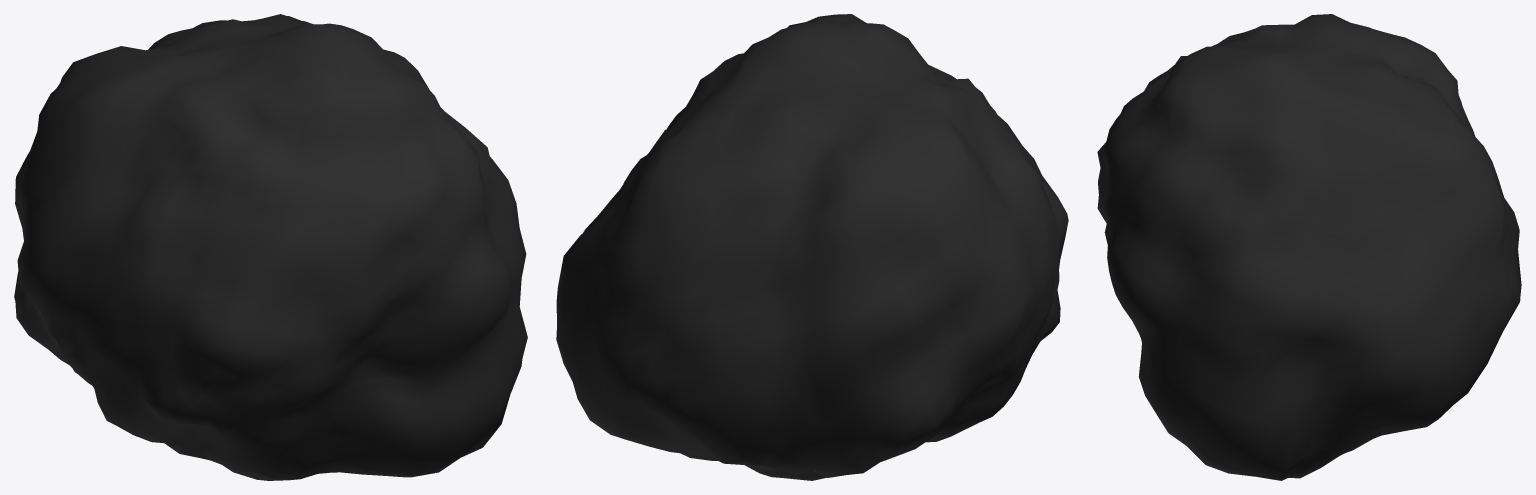
File: SM_Prop_Asteroid2_01.fbx
The picture shows the model from 3 angles, left to right: view 1: azimuth 30°, elevation 25°; view 2: azimuth 150°, elevation 25°; view 3: azimuth 270°, elevation 25°; orthographic projection. The views are drawn at different scales.
Visible parts, largest first — view 1: SM_Prop_Asteroid2_01; view 2: SM_Prop_Asteroid2_01; view 3: SM_Prop_Asteroid2_01.
Part boxes in pixels (<box>): SM_Prop_Asteroid2_01: <box>14,14,527,480</box>; SM_Prop_Asteroid2_01: <box>556,14,1068,480</box>; SM_Prop_Asteroid2_01: <box>1097,14,1521,480</box>.
Bounding box in the file's own units: 443 × 420 × 425.
